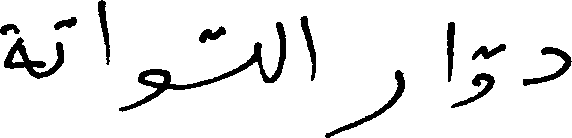ا: (297, 13, 319, 81), (440, 19, 456, 108), (93, 0, 113, 66)
ة: (0, 22, 35, 78)
ت: (49, 14, 79, 75)
د: (522, 45, 570, 87)
ر: (323, 68, 406, 137)
ل: (204, 38, 264, 87), (273, 20, 288, 83)
و: (455, 41, 506, 107), (116, 67, 174, 114)
